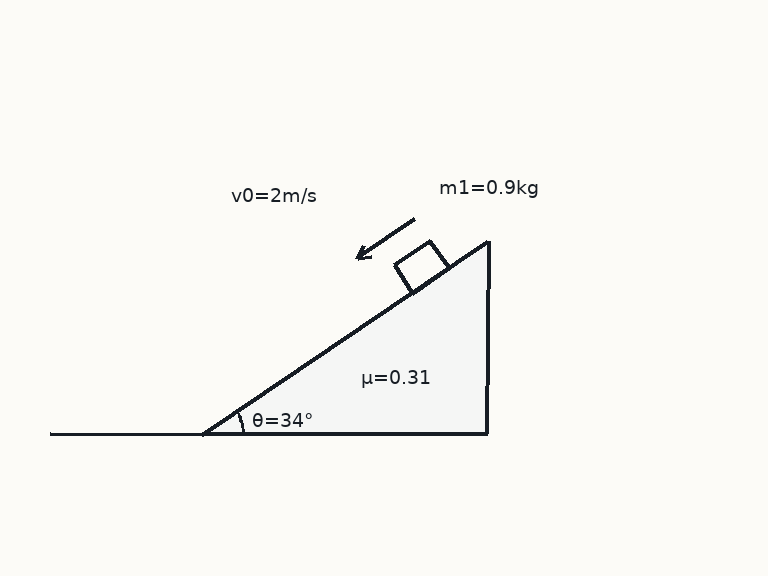block: (392, 239, 451, 294)
ramp: (201, 239, 489, 435)
